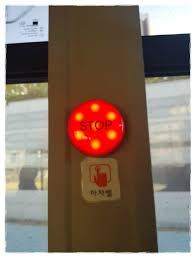bell: (62, 97, 133, 158)
